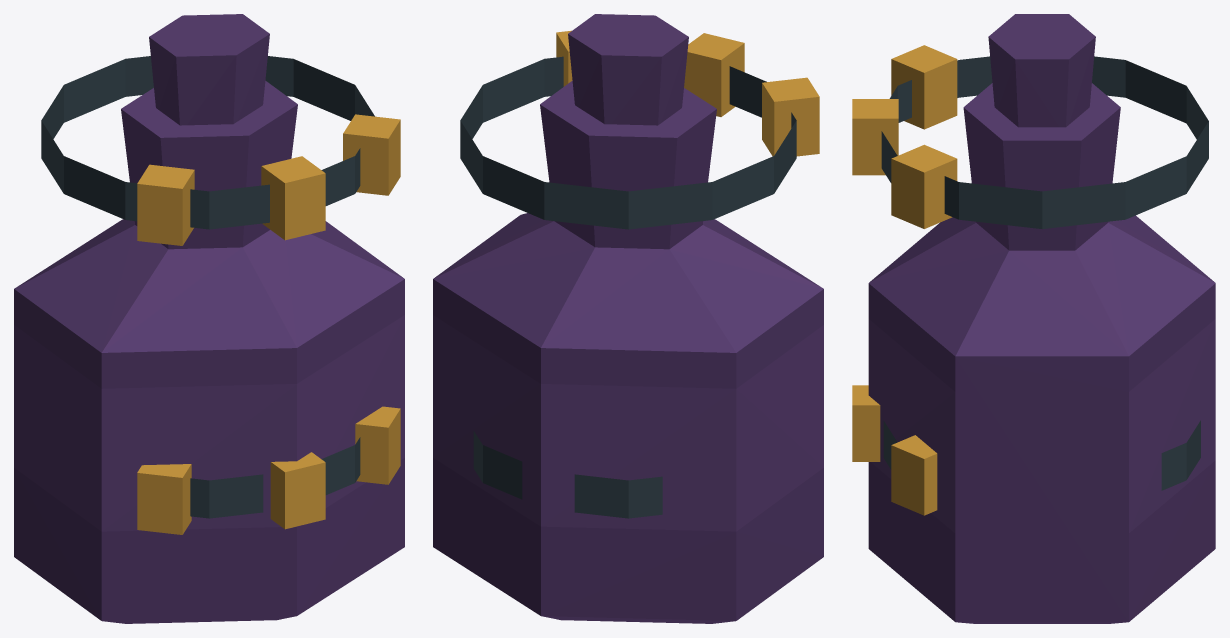
The model's file is jug-lilac.glb.
3 views of the same model, side by side, from view 1: azimuth 30°, elevation 25°; view 2: azimuth 150°, elevation 25°; view 3: azimuth 270°, elevation 25° (orthographic).
Parts seen in each view (by area): view 1: jug-lilac; view 2: jug-lilac; view 3: jug-lilac.
Boxes of the visible parts, x1,y1,x2,y2 form: jug-lilac: (14, 14, 404, 623); jug-lilac: (433, 14, 823, 623); jug-lilac: (852, 14, 1215, 623).
Size of the model in its own units: 0.35 by 0.59 by 0.3665.
